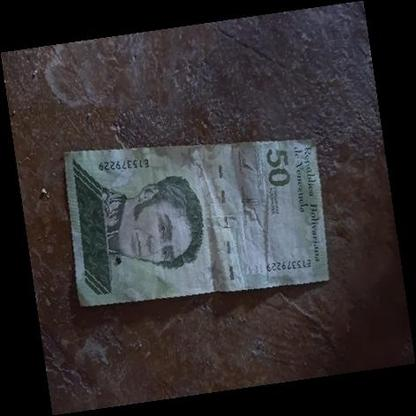fifty-front-vef: (64, 138, 328, 306)
